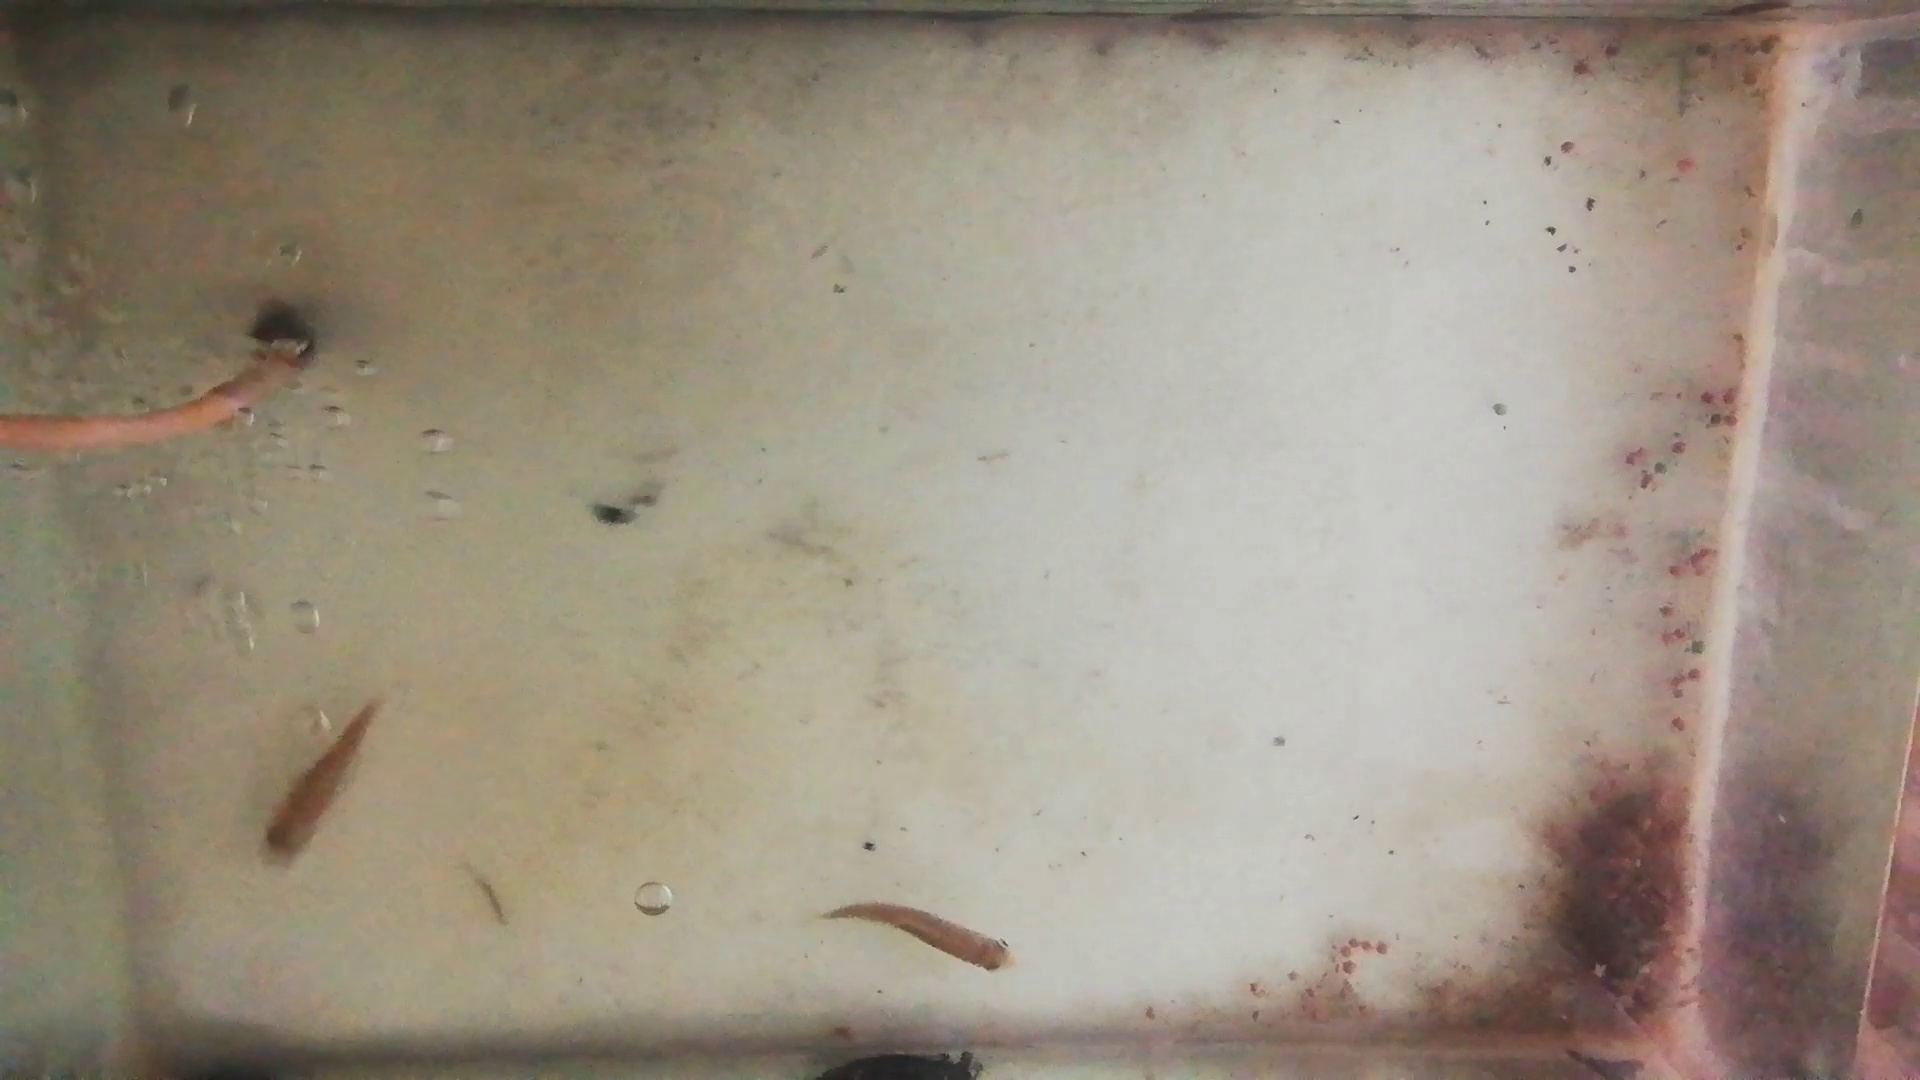fish: (262, 696, 378, 868), (828, 899, 1013, 971)
